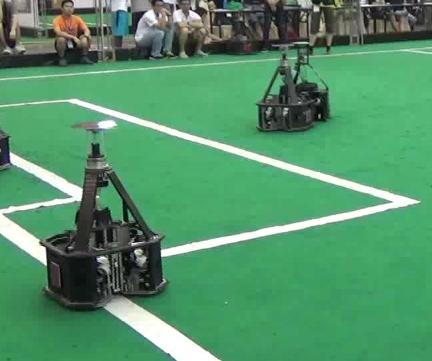robot: (40, 119, 170, 313), (256, 43, 327, 137)
